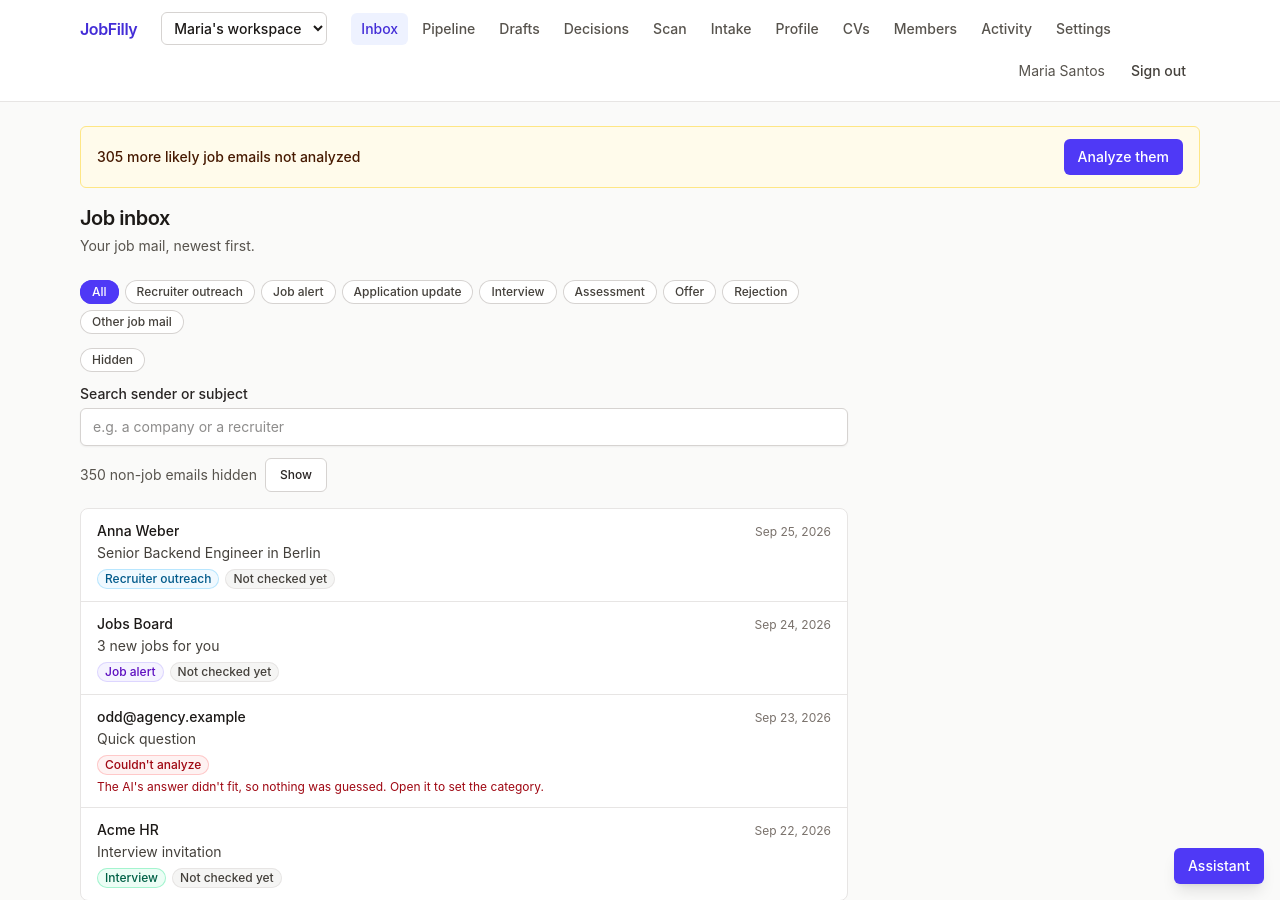
Test: search and filter while likely job mail isn't analysed (F4.10, F5.5) › says how many are left out of an empty search, with the banner's one Analyze them
Expected: the text "305 more likely job emails not analyzed" is shown, [97,148,360,165]
In the search field labelled "Search sender or subject": point(464, 427) [80,408,848,446], type "Jonas Weber"
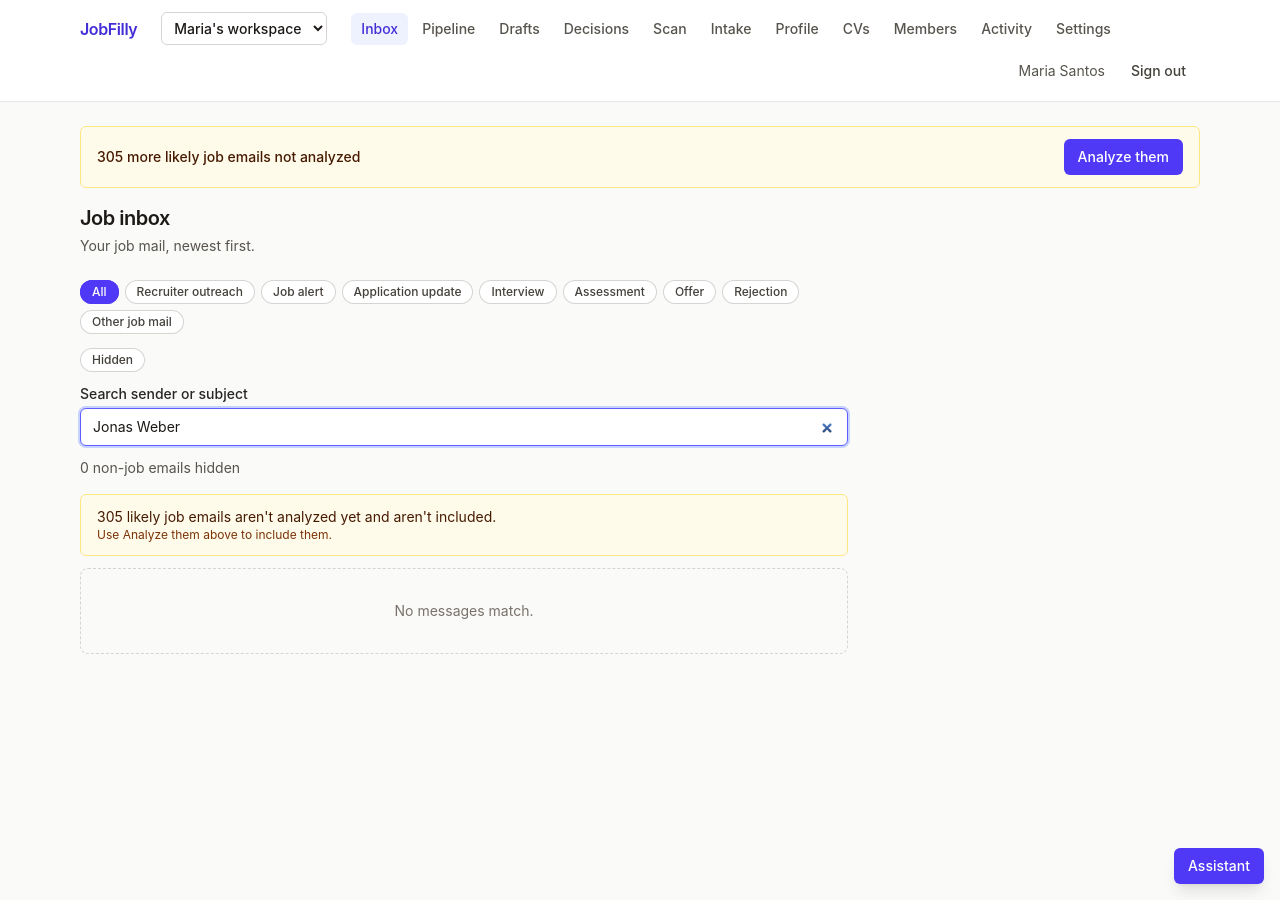
Result: the text "No messages match." is shown at [80,568,848,654]
Result: the element named "Not included" shows "305 likely job emails aren't analyzed yet and aren't included." at [80,494,848,556]
Result: the text "Use Analyze them above to include them." is shown at [97,527,332,542]
Click the button "Analyze them": point(1123, 157) [1064,139,1183,175]
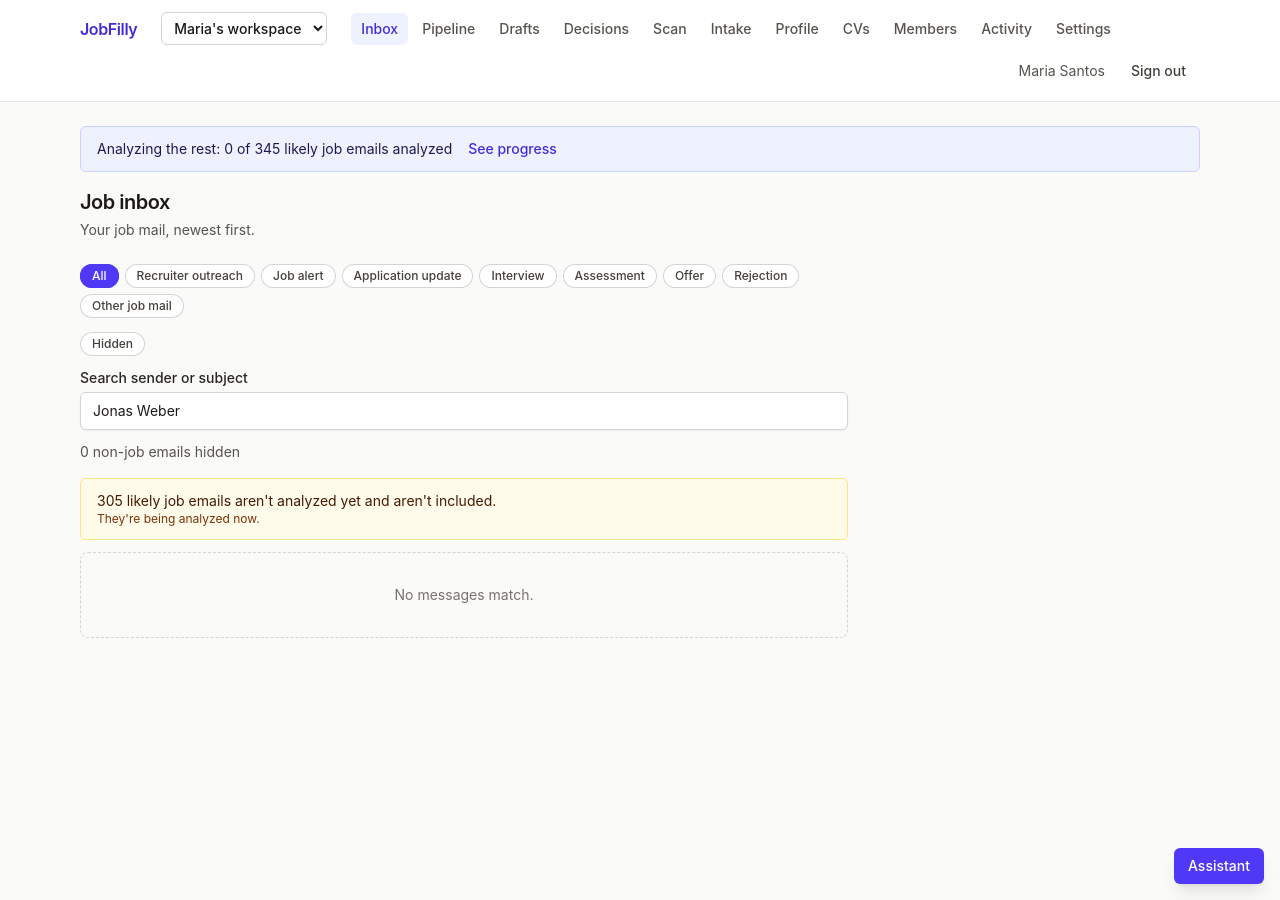
Result: the text "They're being analyzed now." is shown at [97,511,260,526]
Result: the button "Analyze them" is gone
